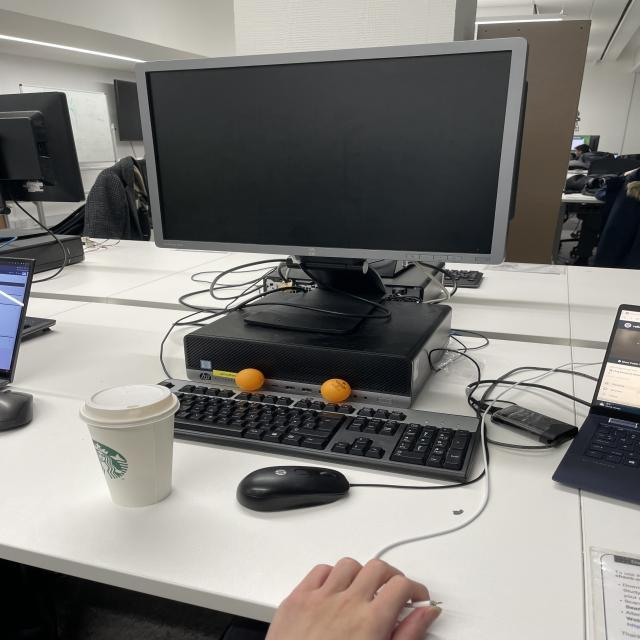oball: (228, 361, 272, 398), (318, 379, 352, 402)
